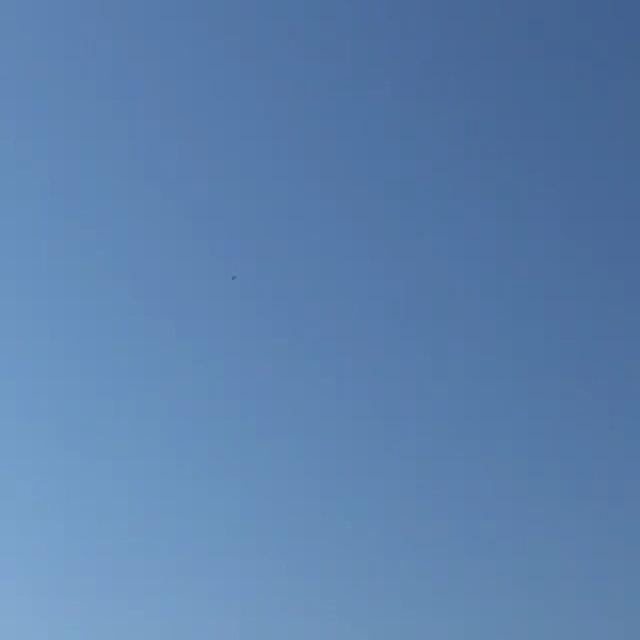bird: (230, 272, 237, 282)
